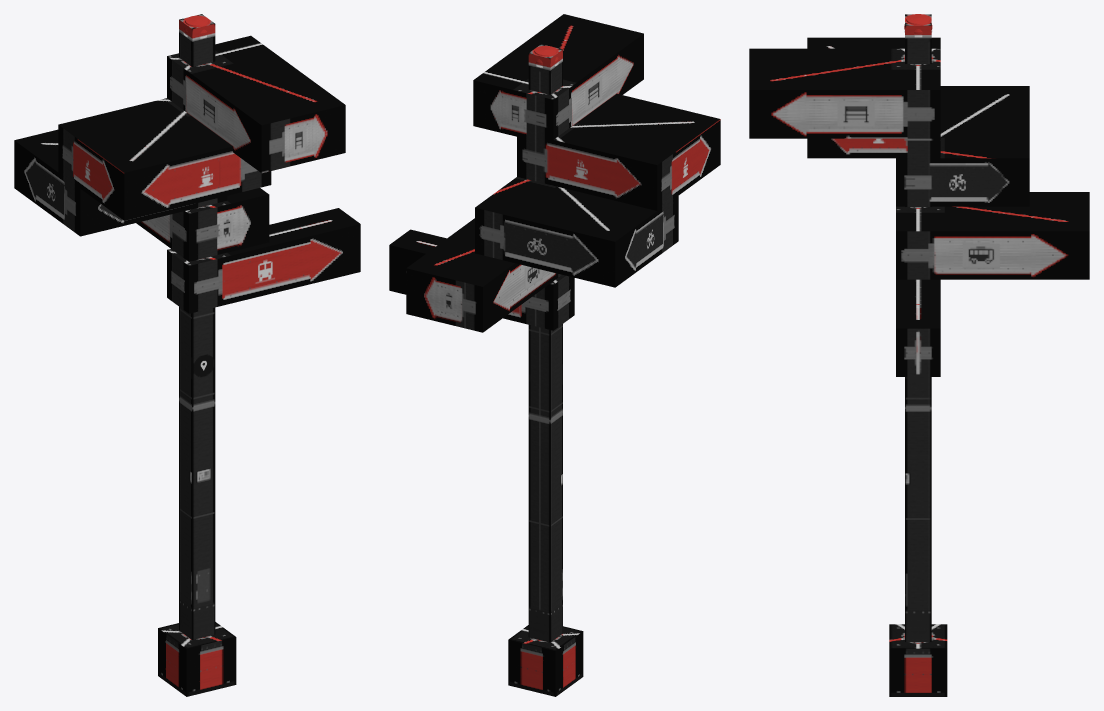
Rendered from signpole-Bv6nTlka.glb.
3 views of the same model, side by side, from view 1: azimuth 30°, elevation 25°; view 2: azimuth 150°, elevation 25°; view 3: azimuth 270°, elevation 25° (orthographic). The views are drawn at different scales.
Visible parts, largest first — view 1: farBaked, body; view 2: farBaked; view 3: farBaked.
Part boxes in pixels (x1,y1,x2,y2): farBaked: [14, 14, 360, 696]; body: [183, 15, 214, 376]; farBaked: [389, 14, 720, 696]; farBaked: [749, 14, 1089, 696].
Size of the model in its own units: 1.47 by 3.31 by 1.53.
3 materials, 3 textured.
